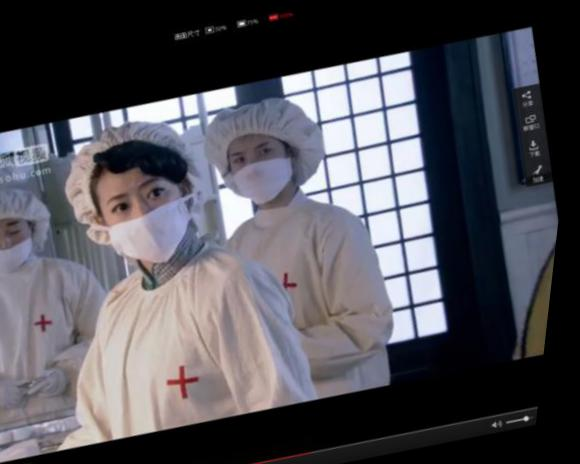OK: (103, 166, 202, 260), (221, 132, 296, 203)
WRONG: (1, 214, 49, 282)
